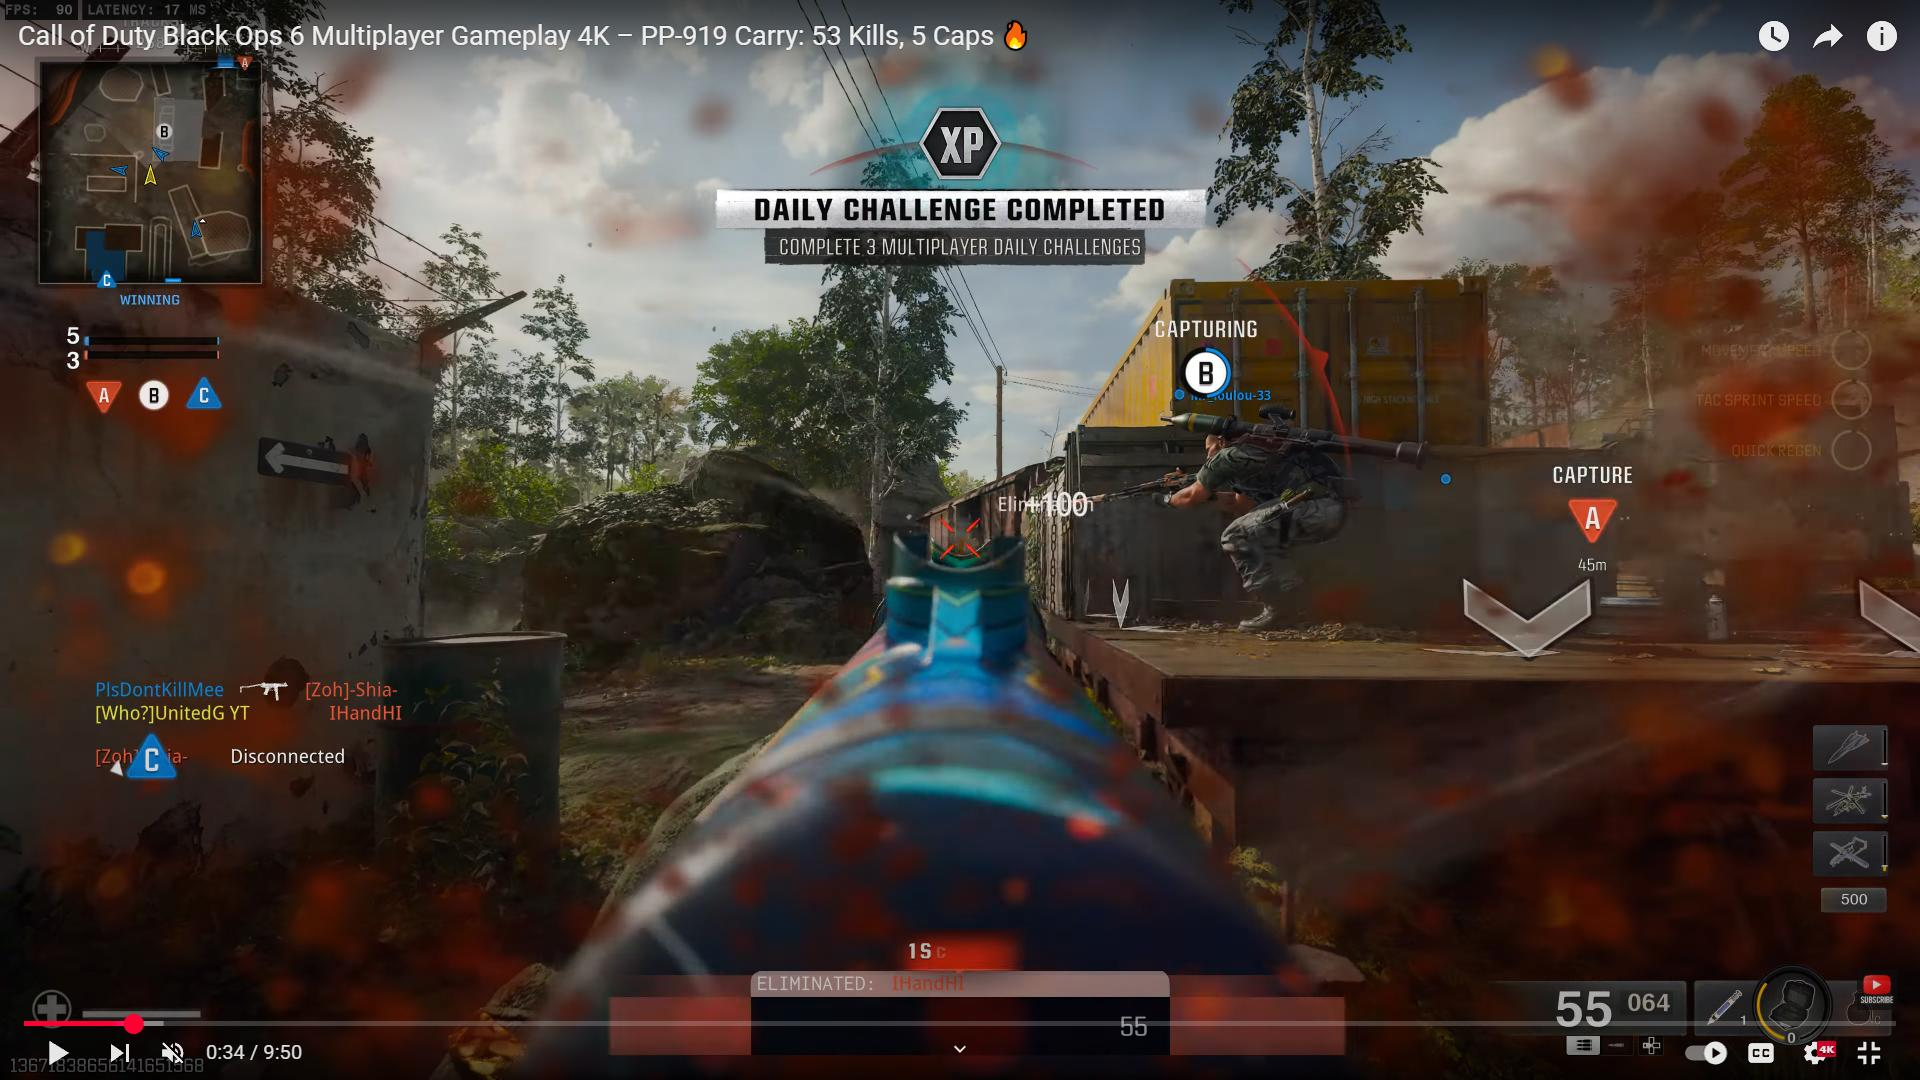Enemy: (1163, 422, 1353, 617)
